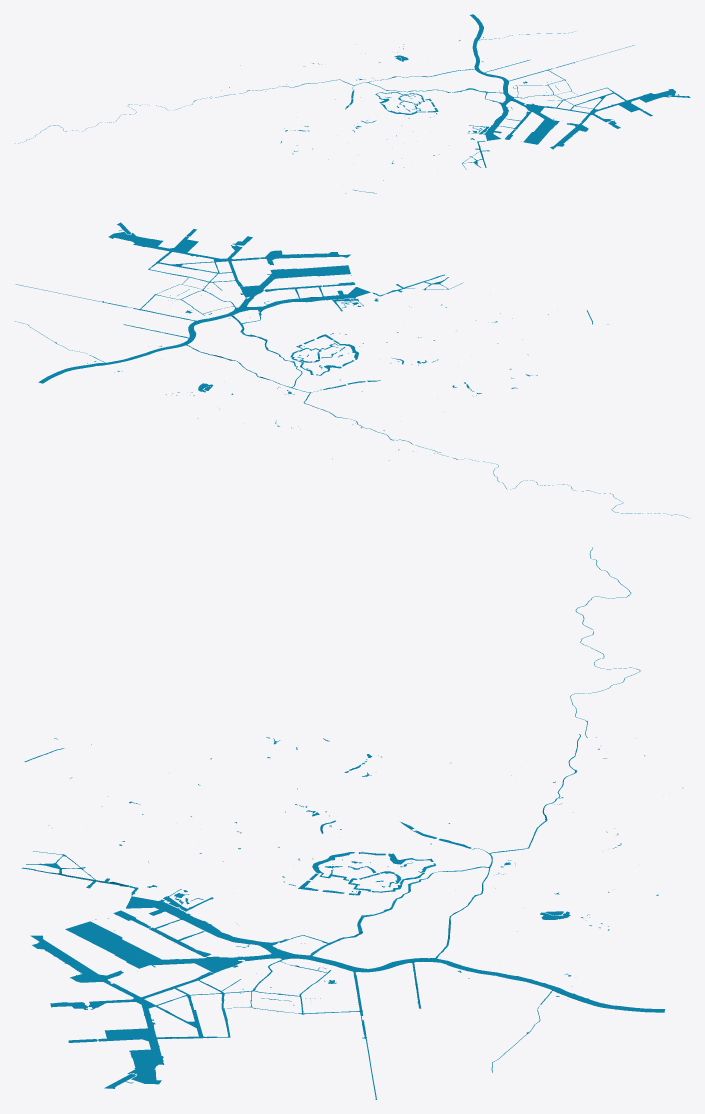
File: water.glb
3 views of the same model, one above another, from view 1: azimuth 30°, elevation 25°; view 2: azimuth 150°, elevation 25°; view 3: azimuth 270°, elevation 25° (orthographic). The views are drawn at different scales.
Parts seen in each view (by area): view 1: water; view 2: water; view 3: water.
Boxes of the visible parts, <box> form: water: <box>15,14,690,193</box>; water: <box>15,222,690,518</box>; water: <box>21,547,682,1099</box>.
Size of the model in its own units: 20562 by 50.2 by 10423.
